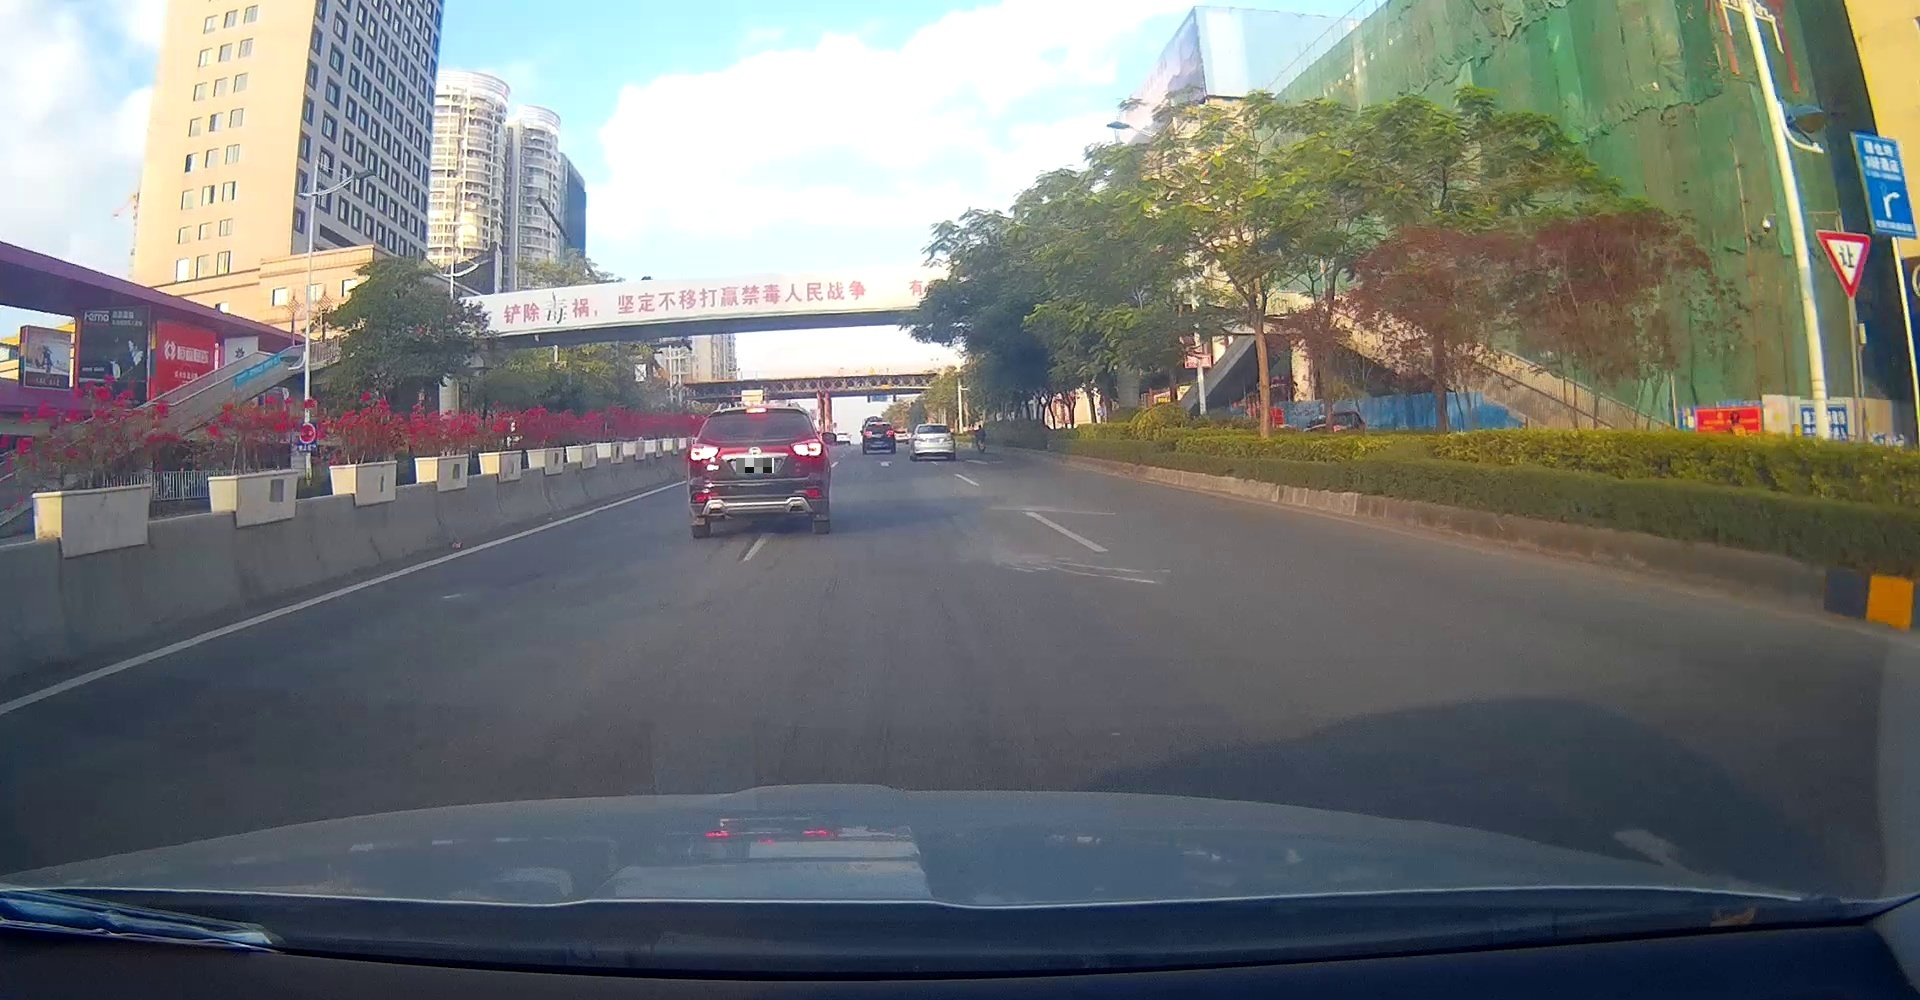L_light: (690, 442, 720, 462), (863, 430, 872, 437), (916, 437, 922, 442)
R_light: (790, 437, 823, 458), (886, 429, 895, 437), (943, 437, 954, 440), (874, 423, 883, 426)
T_light: (745, 406, 767, 414), (930, 424, 938, 426)
day-brake: (688, 404, 827, 539)
day-no: (914, 423, 955, 461), (863, 421, 895, 454)
plate_1: (737, 458, 775, 473)
